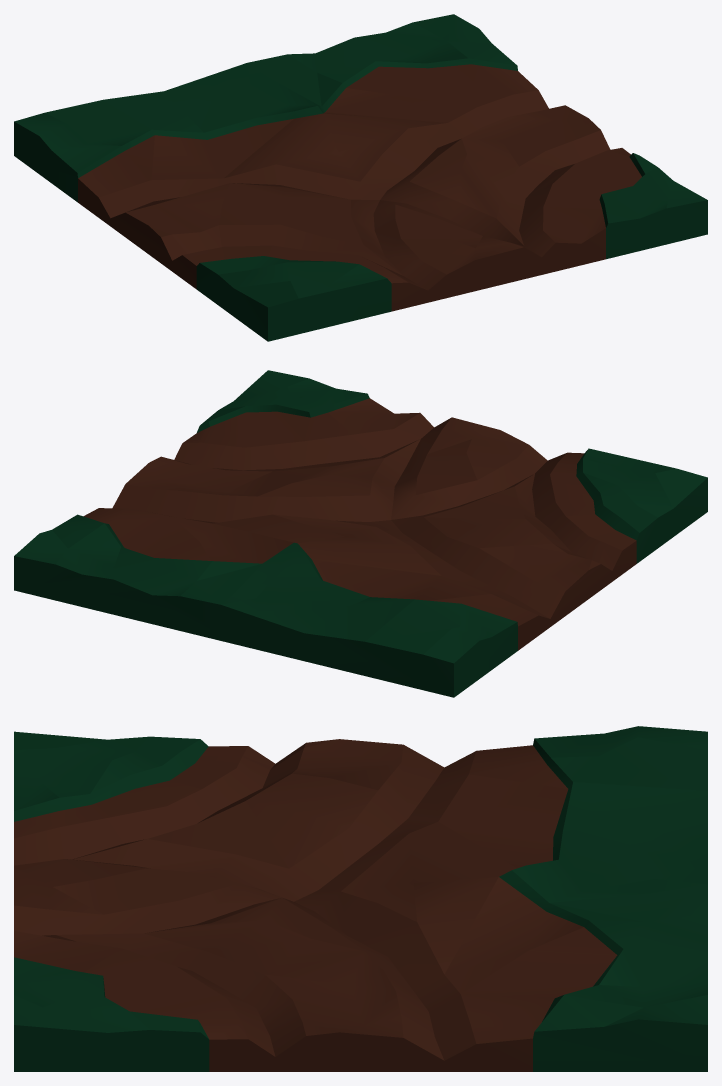
The model's file is Ground_Road_Crossroads_B.fbx.
3 renders of one model, top to bottom at view 1: azimuth 30°, elevation 25°; view 2: azimuth 150°, elevation 25°; view 3: azimuth 270°, elevation 25°, orthographic. The views are drawn at different scales.
Parts seen in each view (by area): view 1: Ground_Road_Crossroads_B; view 2: Ground_Road_Crossroads_B; view 3: Ground_Road_Crossroads_B.
Part boxes in pixels (left/top/right/bottom): Ground_Road_Crossroads_B: left=14, top=14, right=707, bottom=341; Ground_Road_Crossroads_B: left=14, top=370, right=707, bottom=697; Ground_Road_Crossroads_B: left=14, top=726, right=707, bottom=1071.
Bounding box in the file's own units: 147 × 14.69 × 147.
